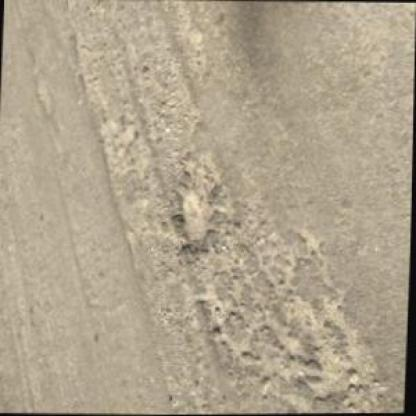pothole: (175, 184, 209, 251)
